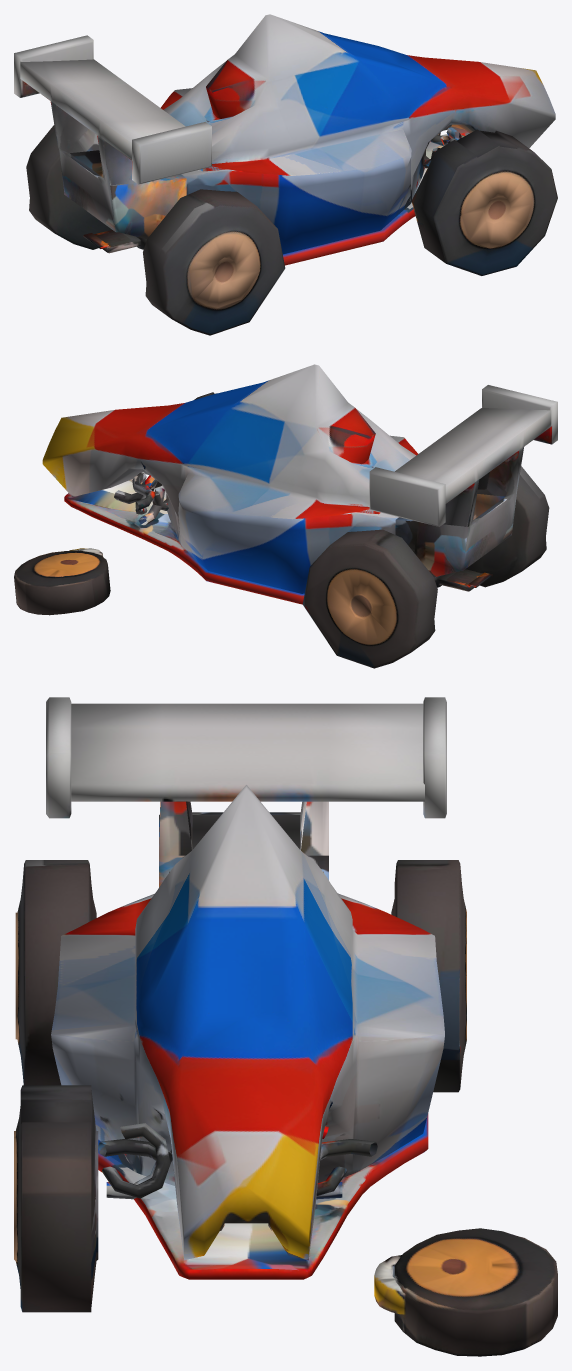
File: 破碎小车.fbx
3 views of the same model, one above another, from view 1: azimuth 30°, elevation 25°; view 2: azimuth 150°, elevation 25°; view 3: azimuth 270°, elevation 25° (orthographic). The views are drawn at different scales.
Parts seen in each view (by area): view 1: tripo_node_66d7ef6f; view 2: tripo_node_66d7ef6f; view 3: tripo_node_66d7ef6f.
Boxes of the visible parts, box(x1,y1,x2,y2) form: tripo_node_66d7ef6f: box(14, 14, 557, 335); tripo_node_66d7ef6f: box(14, 364, 557, 668); tripo_node_66d7ef6f: box(14, 697, 557, 1356).
Bounding box in the file's own units: 0.9186 × 0.4675 × 0.5922.
1 material, 1 textured.
